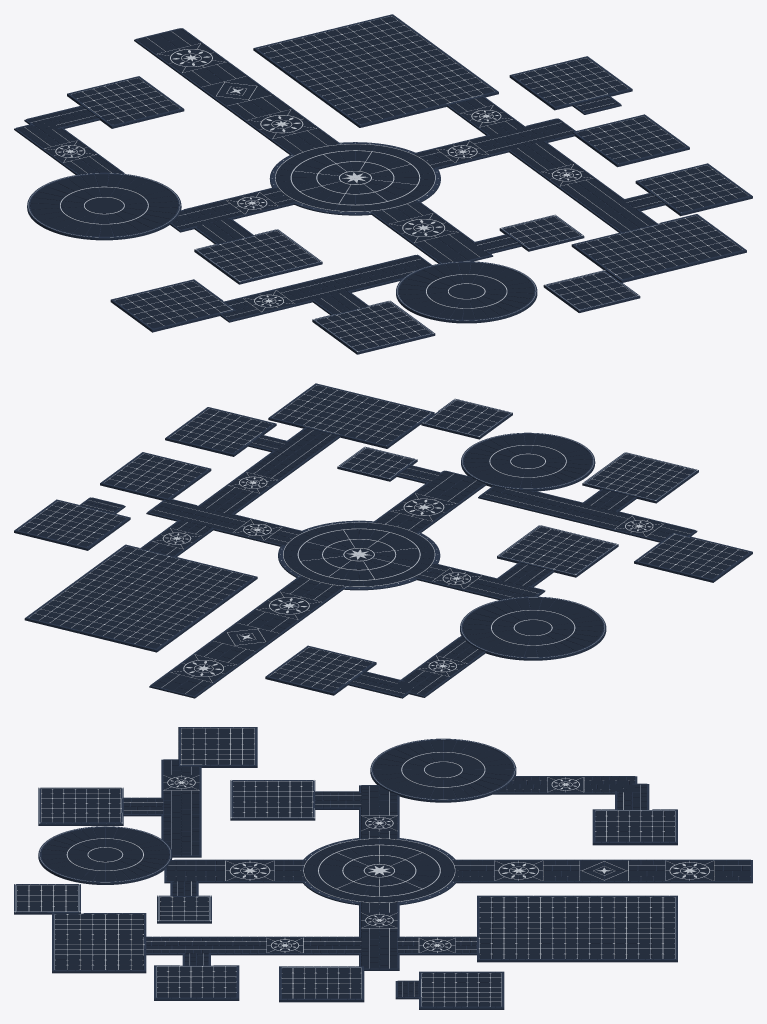
The model's file is Sol_P2.fbx.
The picture shows the model from 3 angles, top to bottom: view 1: azimuth 30°, elevation 25°; view 2: azimuth 150°, elevation 25°; view 3: azimuth 270°, elevation 25°; orthographic projection. The views are drawn at different scales.
Visible parts, largest first — view 1: Socle_Quartier_Artisanal_Dalle, Place_Centrale_Dalle, Socle_Faille_Dalle, Avenue_Sud_Dalle, Socle_Invocation_Dalle, Socle_Entrainement_Dalle, Allee_Logements_Dalle, Allee_Invocation_Admin_Dalle, Socle_Quartier_Artisanal_Argent, Socle_Salle_Magie_Dalle, Allee_Nord_Dalle, Socle_Cantine_Dalle (+46 smaller); view 2: Socle_Quartier_Artisanal_Dalle, Place_Centrale_Dalle, Socle_Faille_Dalle, Avenue_Sud_Dalle, Socle_Invocation_Dalle, Socle_Entrainement_Dalle, Allee_Logements_Dalle, Allee_Invocation_Admin_Dalle, Socle_Quartier_Artisanal_Argent, Socle_Salle_Magie_Dalle, Allee_Nord_Dalle, Socle_Cantine_Dalle (+46 smaller); view 3: Socle_Quartier_Artisanal_Dalle, Place_Centrale_Dalle, Socle_Faille_Dalle, Avenue_Sud_Dalle, Socle_Invocation_Dalle, Socle_Entrainement_Dalle, Allee_Invocation_Admin_Dalle, Allee_Logements_Dalle, Socle_Salle_Magie_Dalle, Allee_Nord_Dalle, Socle_Administration_Dalle, Socle_Chambre_Synthese_Dalle (+49 smaller).
Part boxes in pixels (box(x1,y1,x2,y2)): Socle_Quartier_Artisanal_Dalle: box(258, 16, 493, 123); Place_Centrale_Dalle: box(276, 144, 434, 211); Socle_Faille_Dalle: box(30, 174, 178, 236); Avenue_Sud_Dalle: box(138, 29, 338, 155); Socle_Invocation_Dalle: box(399, 263, 533, 319); Socle_Entrainement_Dalle: box(577, 216, 741, 278); Allee_Logements_Dalle: box(511, 142, 655, 231); Allee_Invocation_Admin_Dalle: box(222, 256, 429, 319); Socle_Quartier_Artisanal_Argent: box(258, 16, 494, 121); Socle_Salle_Magie_Dalle: box(199, 231, 317, 280); Allee_Nord_Dalle: box(372, 200, 489, 262); Socle_Cantine_Dalle: box(514, 58, 627, 106); Socle_Quartier_Artisanal_Dalle: box(29, 546, 252, 648); Place_Centrale_Dalle: box(283, 522, 434, 586); Socle_Faille_Dalle: box(463, 598, 603, 657); Avenue_Sud_Dalle: box(152, 576, 343, 695); Socle_Invocation_Dalle: box(464, 434, 591, 488); Socle_Entrainement_Dalle: box(273, 385, 429, 444); Allee_Logements_Dalle: box(200, 428, 337, 514); Allee_Invocation_Admin_Dalle: box(481, 486, 693, 540); Socle_Quartier_Artisanal_Argent: box(29, 546, 253, 646); Socle_Salle_Magie_Dalle: box(501, 527, 613, 573); Allee_Nord_Dalle: box(375, 471, 484, 533); Socle_Cantine_Dalle: box(19, 501, 125, 546); Socle_Quartier_Artisanal_Dalle: box(480, 897, 674, 958); Place_Centrale_Dalle: box(304, 839, 454, 902); Socle_Faille_Dalle: box(373, 740, 513, 799); Avenue_Sud_Dalle: box(449, 860, 750, 880); Socle_Invocation_Dalle: box(41, 827, 169, 881); Socle_Entrainement_Dalle: box(55, 914, 143, 969); Allee_Invocation_Admin_Dalle: box(163, 760, 199, 855); Allee_Logements_Dalle: box(146, 938, 360, 953); Socle_Salle_Magie_Dalle: box(233, 781, 312, 817); Allee_Nord_Dalle: box(166, 860, 309, 881); Socle_Administration_Dalle: box(181, 728, 254, 764); Socle_Chambre_Synthese_Dalle: box(41, 789, 120, 822).
Bounding box in the file's own units: 327 × 1.28 × 364.
